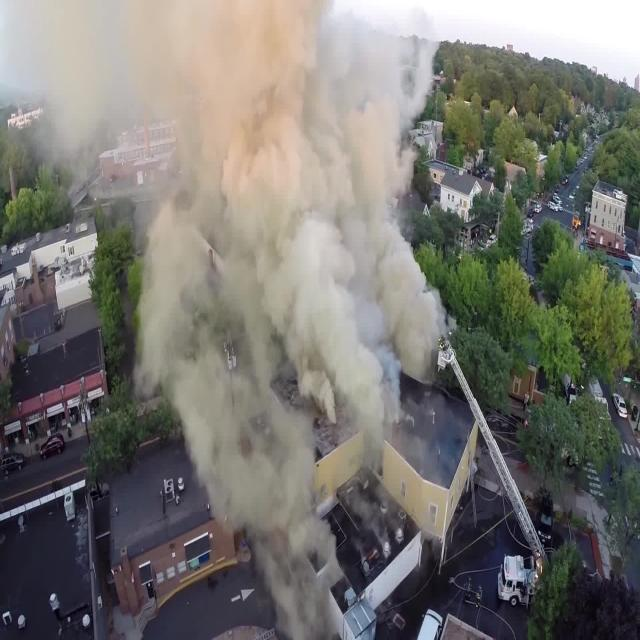Smoke: (180, 96, 390, 423)
